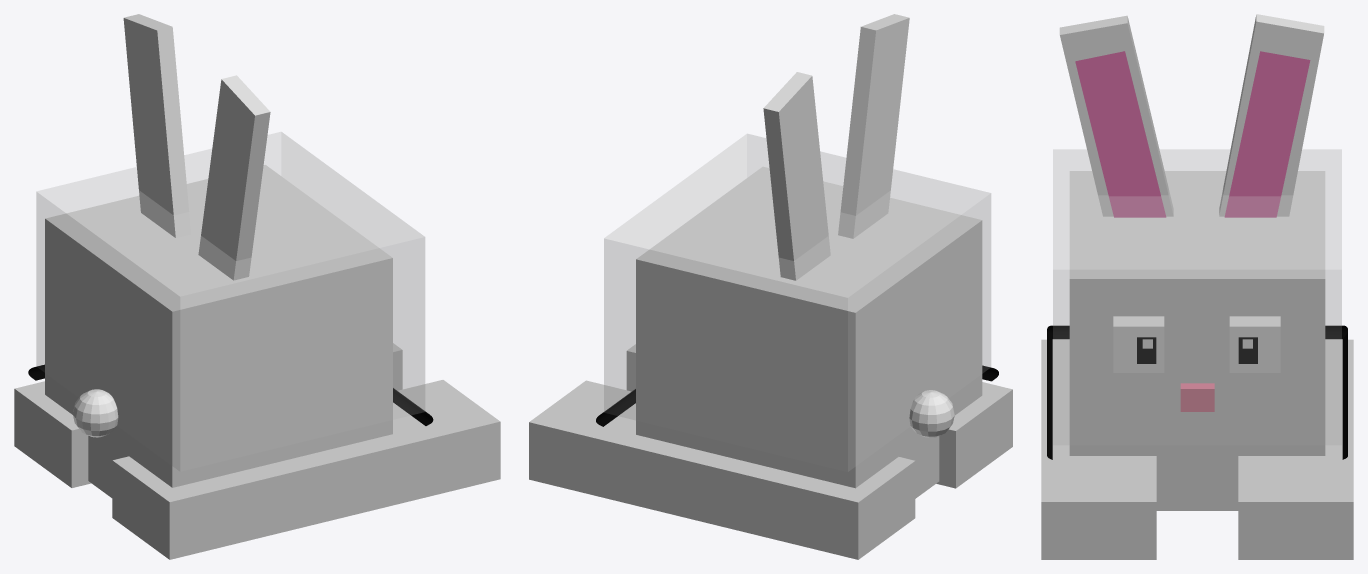
The model's file is SpaceRabbit.gltf.
3 renders of one model, left to right at view 1: azimuth 30°, elevation 25°; view 2: azimuth 150°, elevation 25°; view 3: azimuth 270°, elevation 25°, orthographic.
Visible parts, largest first — view 1: Cube.003, body, Cube.001, ear2, ear1, Cube.002, Sphere, Cube.004; view 2: Cube.003, body, Cube.002, ear1, ear2, Cube.001, Sphere, Cube.004; view 3: Cube.003, body, Cube.001, Cube.002, ear1, ear2, Cube.005, Cube.006, Cube.004, Cube, Plane.002, Plane.003.
Boxes of the visible parts, left/top/right/bottom form: Cube.003: left=36, top=132, right=424, bottom=471; body: left=45, top=165, right=392, bottom=497; Cube.001: left=112, top=380, right=500, bottom=559; ear2: left=123, top=14, right=191, bottom=238; ear1: left=198, top=75, right=270, bottom=280; Cube.002: left=14, top=343, right=402, bottom=487; Sphere: left=73, top=389, right=118, bottom=437; Cube.004: left=28, top=364, right=433, bottom=425; Cube.003: left=604, top=134, right=990, bottom=471; body: left=636, top=166, right=982, bottom=498; Cube.002: left=529, top=380, right=915, bottom=559; ear1: left=838, top=14, right=909, bottom=238; ear2: left=763, top=72, right=830, bottom=280; Cube.001: left=626, top=344, right=1012, bottom=488; Sphere: left=909, top=390, right=954, bottom=437; Cube.004: left=596, top=365, right=998, bottom=426; Cube.003: left=1053, top=149, right=1341, bottom=444; body: left=1069, top=171, right=1325, bottom=510; Cube.001: left=1041, top=339, right=1156, bottom=559; Cube.002: left=1238, top=339, right=1353, bottom=559; ear1: left=1059, top=15, right=1173, bottom=217; ear2: left=1219, top=14, right=1324, bottom=217; Cube.005: left=1113, top=316, right=1164, bottom=372; Cube.006: left=1229, top=316, right=1280, bottom=372; Cube.004: left=1047, top=325, right=1347, bottom=459; Cube: left=1180, top=383, right=1214, bottom=411; Plane.002: left=1137, top=337, right=1156, bottom=363; Plane.003: left=1238, top=337, right=1257, bottom=363.
Bounding box in the file's own units: 3.15 × 3.71 × 2.44.
